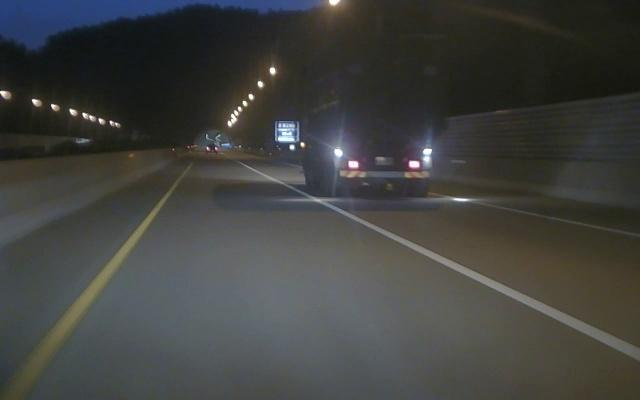lane: (314, 199, 638, 361), (4, 197, 167, 399), (471, 199, 640, 238)
